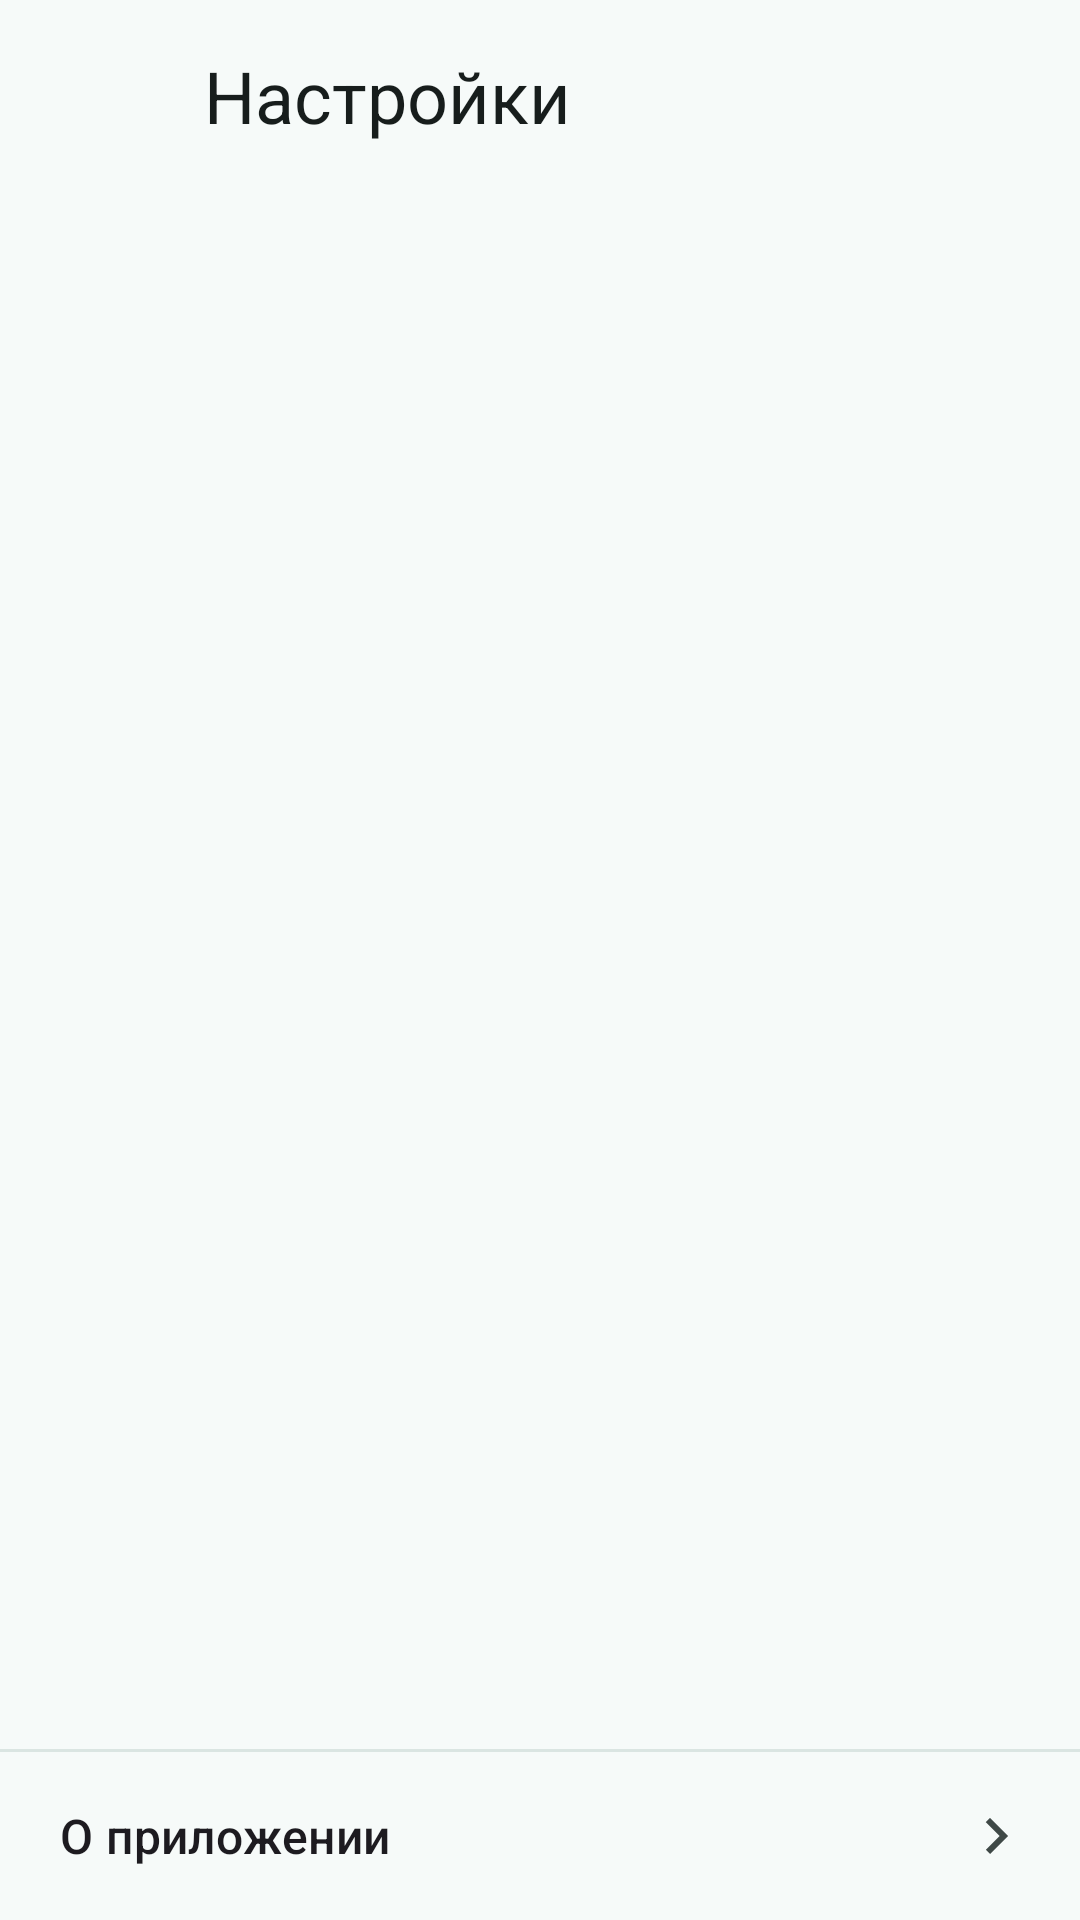

Icon bounding boxes for this 1080px x 1920px phone screenshot, format (x1, y1, x2, y2):
keyboard arrow right: (986, 1818, 1008, 1854)
